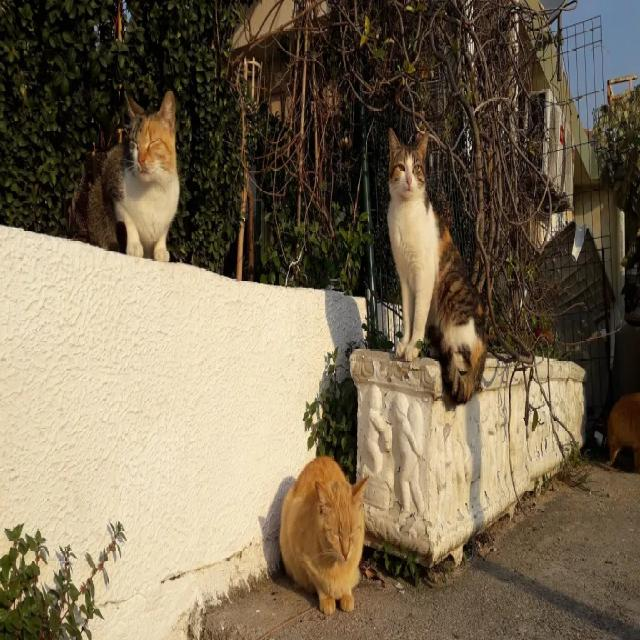cat: (388, 129, 486, 404), (89, 91, 180, 261), (280, 456, 366, 616)
